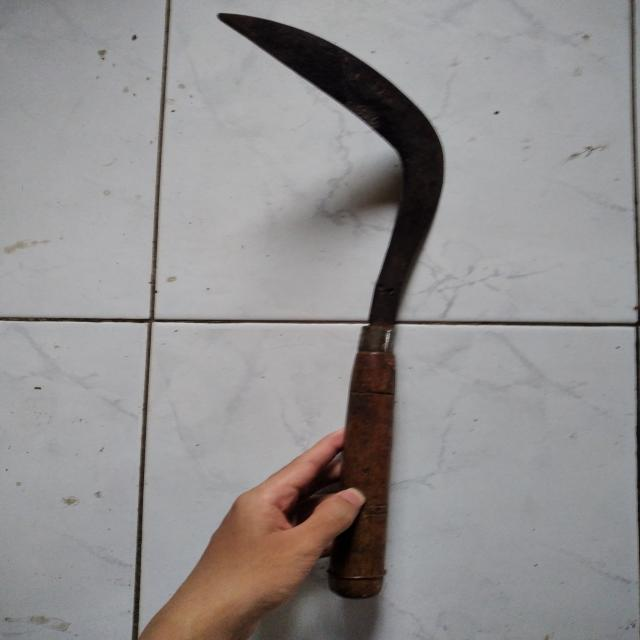Celurit: (221, 10, 446, 603)
